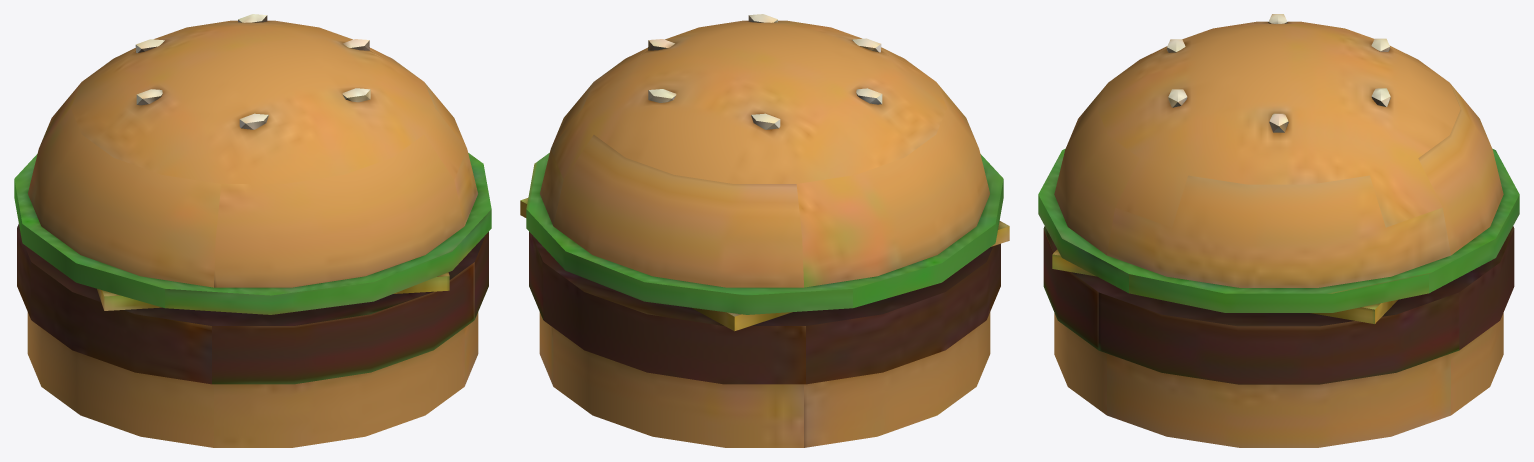
Rendered from hamburguesa.glb.
3 renders of one model, left to right at view 1: azimuth 30°, elevation 25°; view 2: azimuth 150°, elevation 25°; view 3: azimuth 270°, elevation 25°, orthographic.
Parts seen in each view (by area): view 1: hamburguesa; view 2: hamburguesa; view 3: hamburguesa.
Boxes of the visible parts, x1,y1,x2,y2 form: hamburguesa: [14, 14, 491, 447]; hamburguesa: [520, 14, 1009, 447]; hamburguesa: [1038, 14, 1519, 447].
Bounding box in the file's own units: 0.8774 × 0.63 × 0.9.
1 material, 1 textured.
